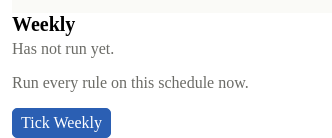
a schedule's page › ticks, shows what was rejected, and reads the latest run again
(page scrolled)
Check: the text "Has not run yet." is shown, box [12,40,114,57]
Step 1. Click the button "Tick Weekly" → {"x": 61, "y": 123}, box [12,108,111,137]
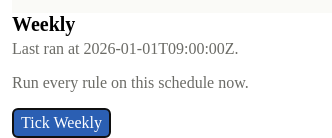
Check: the text "Last ran at 2026-01-01T09:00:00Z." is shown, box [12,40,239,57]
